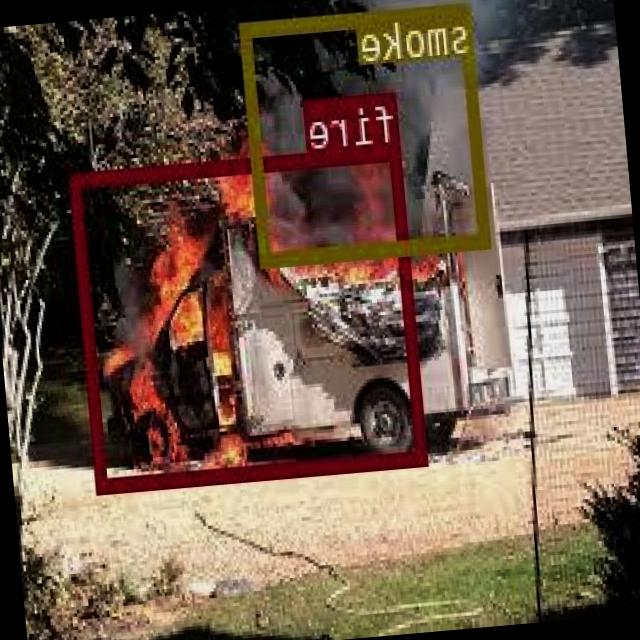fire: (72, 142, 430, 491)
smoke: (242, 0, 491, 262)
